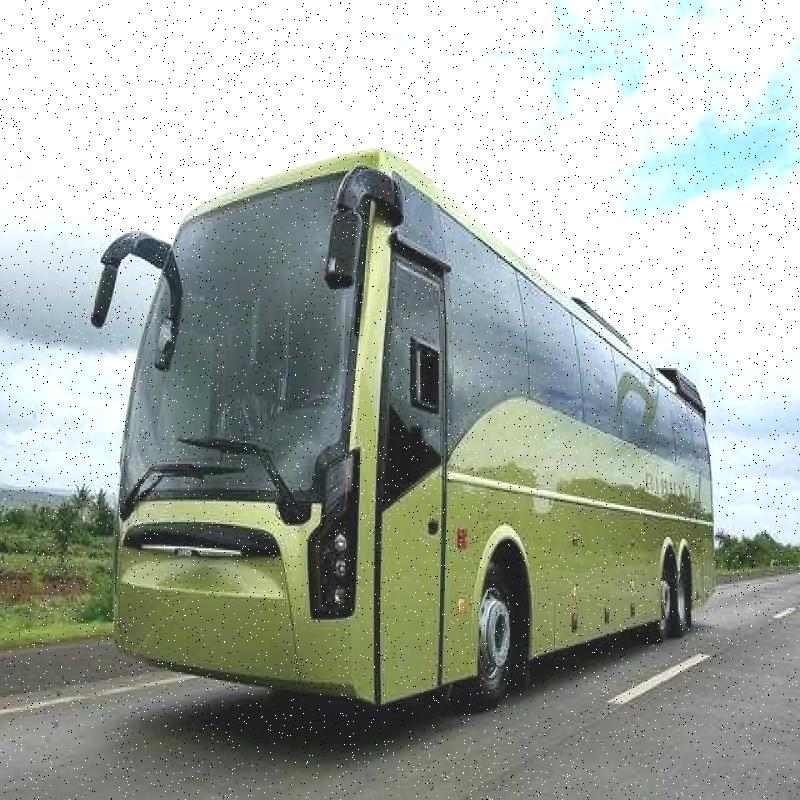bus: (64, 134, 730, 760)
